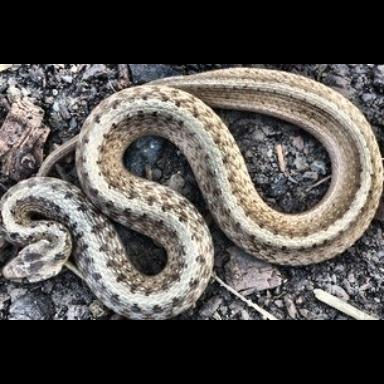snake: (0, 66, 384, 321)
